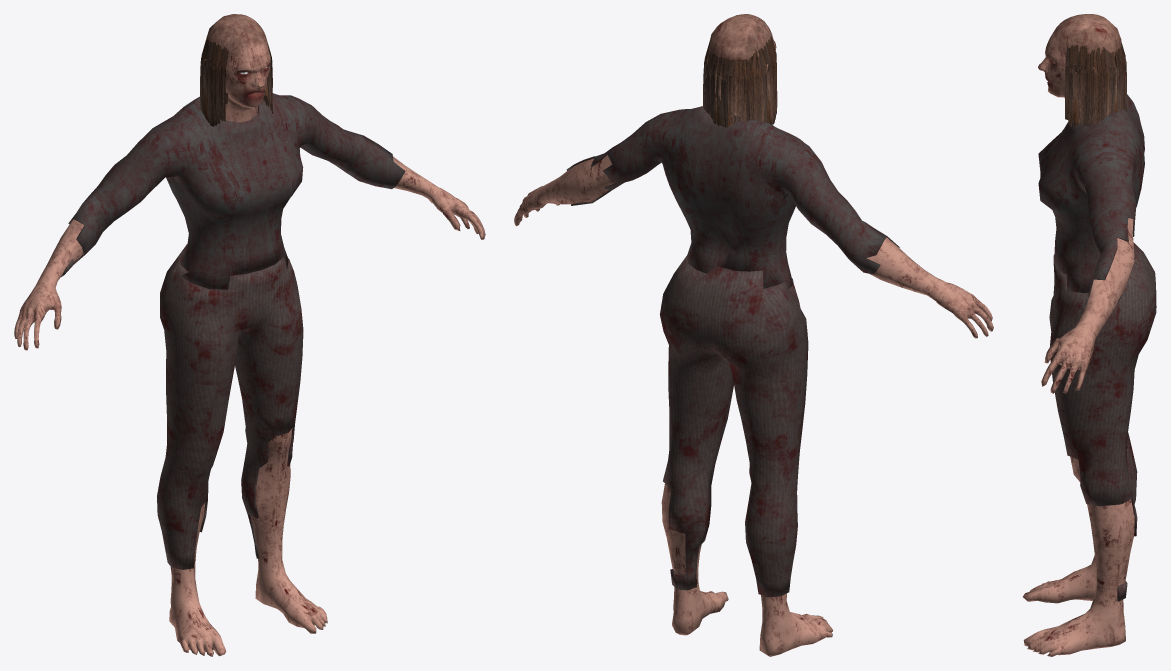
File: zombikadınmixamo.fbx
3 views of the same model, side by side, from view 1: azimuth 30°, elevation 25°; view 2: azimuth 150°, elevation 25°; view 3: azimuth 270°, elevation 25° (orthographic).
Parts seen in each view (by area): view 1: body_male.003, body_male.002, body_male.001, Mesh; view 2: body_male.002, body_male.003, body_male.001, Mesh; view 3: body_male.001, body_male.002, body_male.003, Mesh.
Part boxes in pixels (x1=…): body_male.003: x1=61, y1=93, x2=405, y2=289; body_male.002: x1=157, y1=244, x2=303, y2=569; body_male.001: x1=14, y1=14, x2=485, y2=656; Mesh: x1=200, y1=22, x2=272, y2=126; body_male.002: x1=660, y1=256, x2=808, y2=597; body_male.003: x1=566, y1=106, x2=899, y2=290; body_male.001: x1=514, y1=14, x2=993, y2=656; Mesh: x1=703, y1=30, x2=777, y2=127; body_male.001: x1=1023, y1=14, x2=1134, y2=656; body_male.002: x1=1049, y1=242, x2=1156, y2=601; body_male.003: x1=1038, y1=94, x2=1144, y2=301; Mesh: x1=1065, y1=33, x2=1126, y2=127.
Bounding box in the file's own units: 143 × 180 × 35.89.
Materials: 4 (4 with a texture image).
